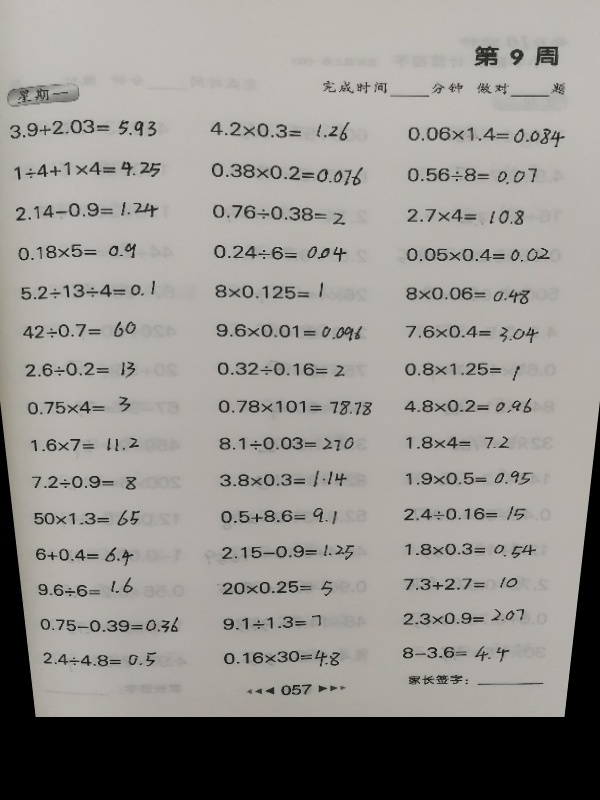equation: (403, 120, 569, 148), (9, 156, 165, 183), (4, 114, 160, 141), (206, 161, 366, 187), (206, 117, 357, 144), (10, 197, 161, 223), (215, 397, 375, 419), (403, 243, 554, 266), (211, 321, 364, 343), (403, 164, 541, 188), (400, 321, 543, 344), (16, 279, 159, 302), (207, 201, 348, 224), (209, 240, 349, 263), (21, 393, 144, 419), (401, 282, 533, 306), (215, 433, 358, 455), (400, 428, 525, 453), (216, 467, 351, 490), (216, 503, 340, 527), (12, 239, 140, 262), (18, 318, 140, 342), (218, 541, 357, 562), (36, 615, 181, 635), (400, 395, 535, 416), (212, 358, 347, 379), (403, 205, 526, 228), (22, 358, 139, 382), (402, 467, 535, 488), (400, 358, 522, 380), (210, 279, 326, 302), (401, 539, 539, 558), (220, 648, 344, 669), (32, 541, 136, 566), (399, 606, 527, 626), (401, 503, 528, 523), (31, 507, 145, 529), (219, 577, 335, 598), (40, 648, 159, 668), (398, 642, 511, 663), (27, 471, 139, 492), (26, 434, 141, 454), (34, 577, 135, 599), (400, 575, 522, 591), (219, 613, 324, 630)
